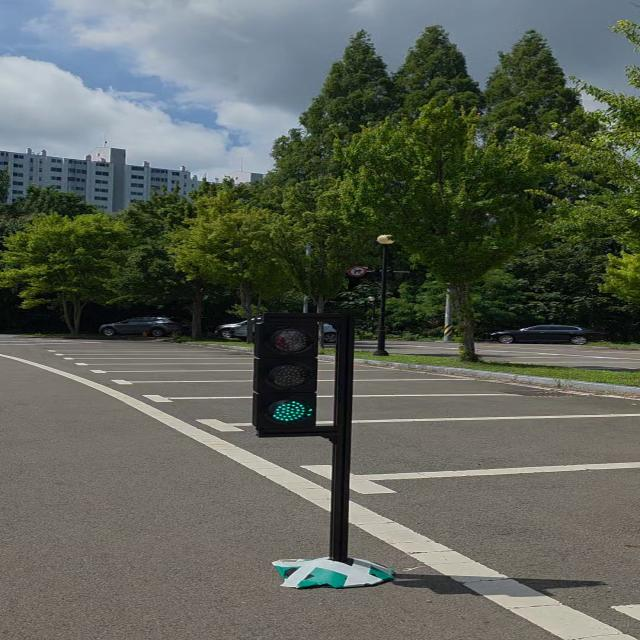green: (255, 314, 320, 436)
